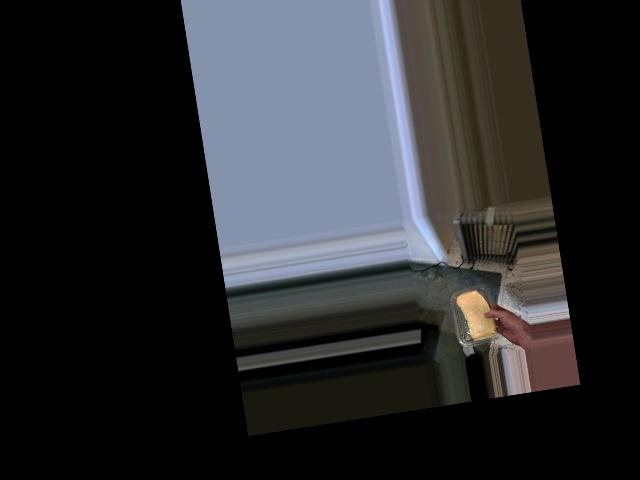cheese: (449, 280, 503, 347)
